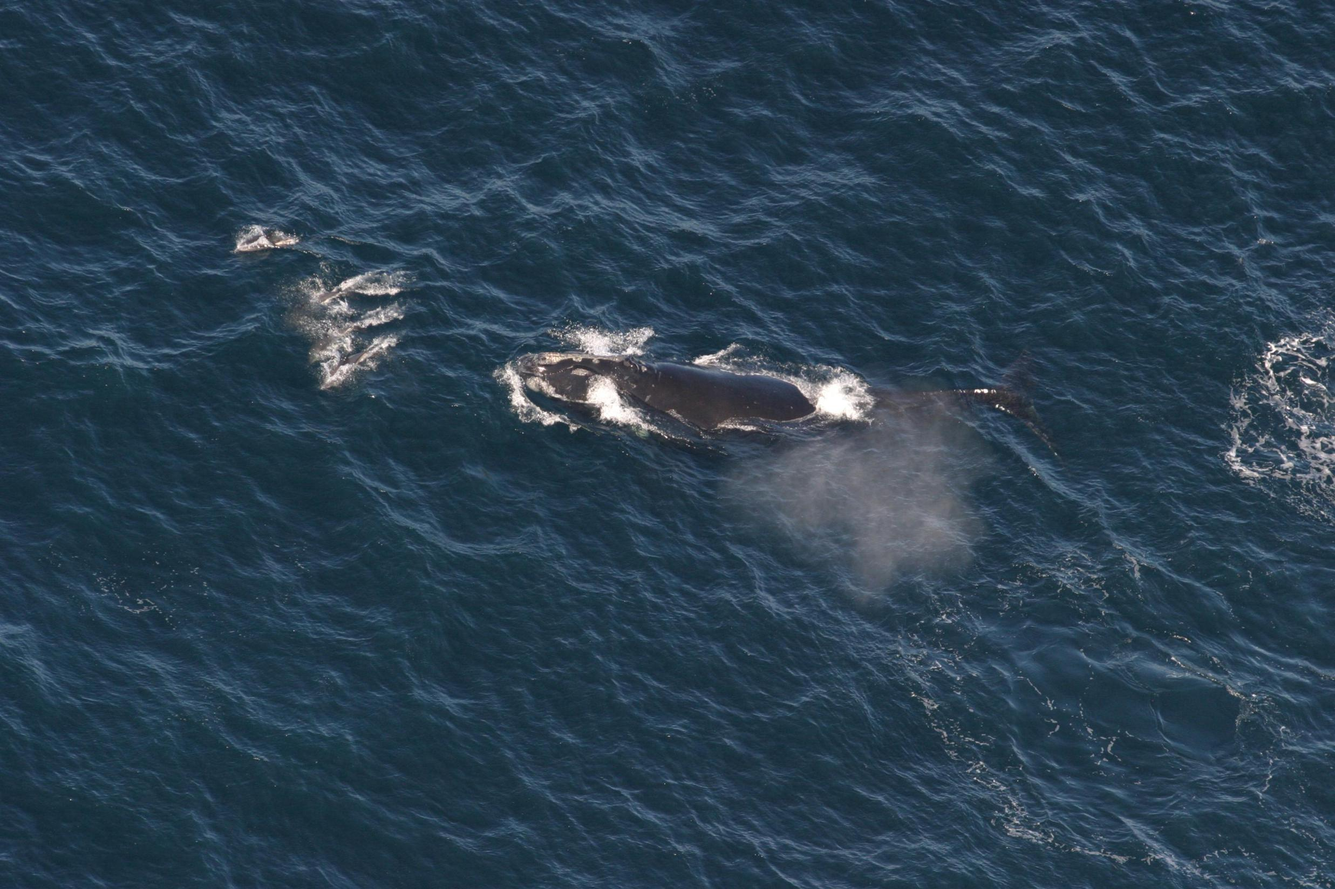whale: (471, 327, 1078, 480)
